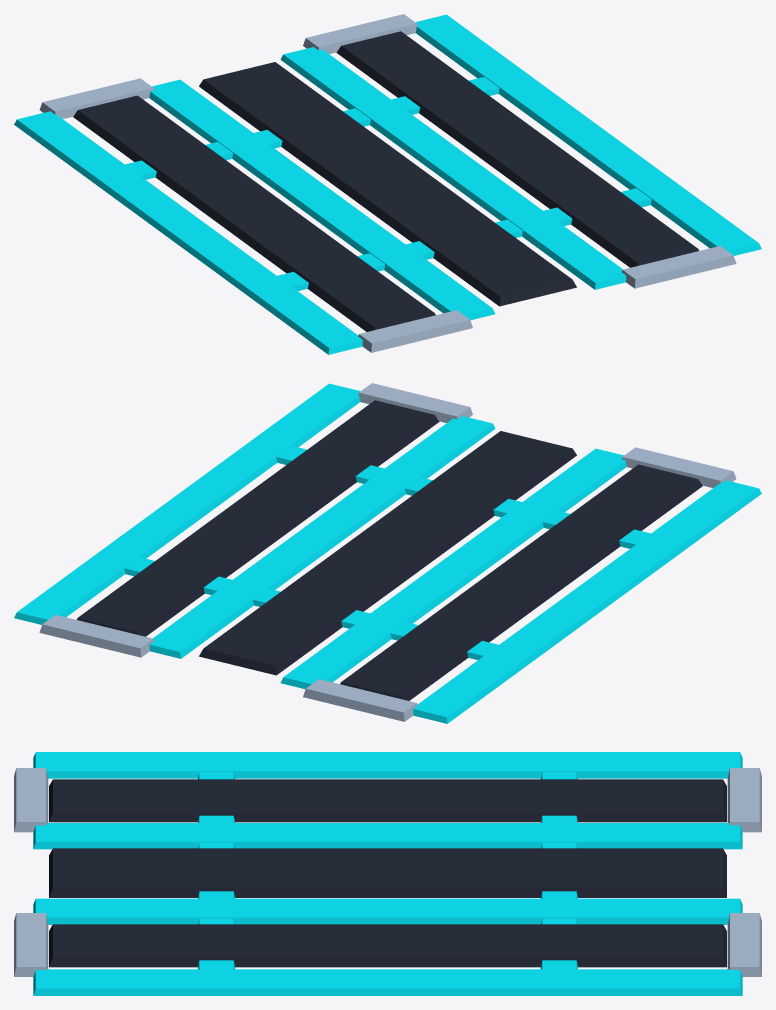
Rendered from SM_ArenaTile_Overlay_03_IceCorridor.obj.
The picture shows the model from 3 angles, top to bottom: view 1: azimuth 30°, elevation 25°; view 2: azimuth 150°, elevation 25°; view 3: azimuth 270°, elevation 25°; orthographic projection. The views are drawn at different scales.
Parts seen in each view (by area): view 1: SM_ArenaTile_Overlay_03_IceCorridor__MAT_DarkNeutral, SM_ArenaTile_Overlay_03_IceCorridor__EMI_Ice, SM_ArenaTile_Overlay_03_IceCorridor__MAT_LightTrim; view 2: SM_ArenaTile_Overlay_03_IceCorridor__MAT_DarkNeutral, SM_ArenaTile_Overlay_03_IceCorridor__EMI_Ice, SM_ArenaTile_Overlay_03_IceCorridor__MAT_LightTrim; view 3: SM_ArenaTile_Overlay_03_IceCorridor__MAT_DarkNeutral, SM_ArenaTile_Overlay_03_IceCorridor__EMI_Ice, SM_ArenaTile_Overlay_03_IceCorridor__MAT_LightTrim.
Boxes of the visible parts, x1=… form: SM_ArenaTile_Overlay_03_IceCorridor__MAT_DarkNeutral: x1=73, y1=31, x2=699, y2=331; SM_ArenaTile_Overlay_03_IceCorridor__EMI_Ice: x1=14, y1=14, x2=761, y2=354; SM_ArenaTile_Overlay_03_IceCorridor__MAT_LightTrim: x1=39, y1=14, x2=736, y2=352; SM_ArenaTile_Overlay_03_IceCorridor__MAT_DarkNeutral: x1=76, y1=400, x2=702, y2=700; SM_ArenaTile_Overlay_03_IceCorridor__EMI_Ice: x1=14, y1=383, x2=761, y2=723; SM_ArenaTile_Overlay_03_IceCorridor__MAT_LightTrim: x1=39, y1=383, x2=736, y2=721; SM_ArenaTile_Overlay_03_IceCorridor__MAT_DarkNeutral: x1=49, y1=779, x2=726, y2=967; SM_ArenaTile_Overlay_03_IceCorridor__EMI_Ice: x1=33, y1=752, x2=742, y2=995; SM_ArenaTile_Overlay_03_IceCorridor__MAT_LightTrim: x1=14, y1=768, x2=761, y2=976.
Bounding box in the file's own units: 7.24 × 0.13 × 9.6.
Materials: 3 (3 with a texture image).
